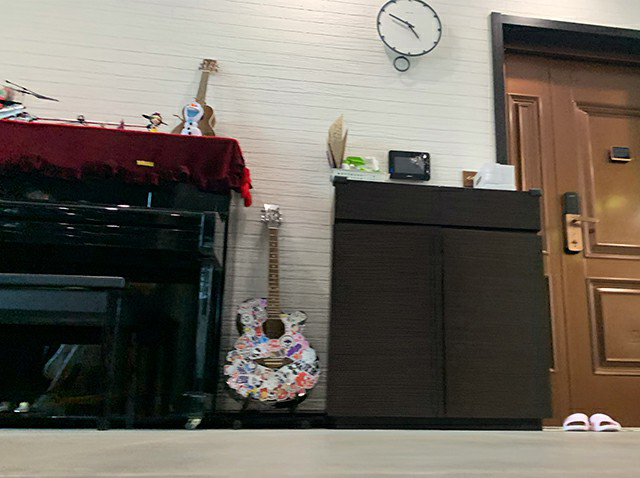cabinet: (325, 175, 554, 432)
slippers: (590, 413, 619, 433), (562, 413, 590, 433)
stool: (1, 271, 139, 432)
